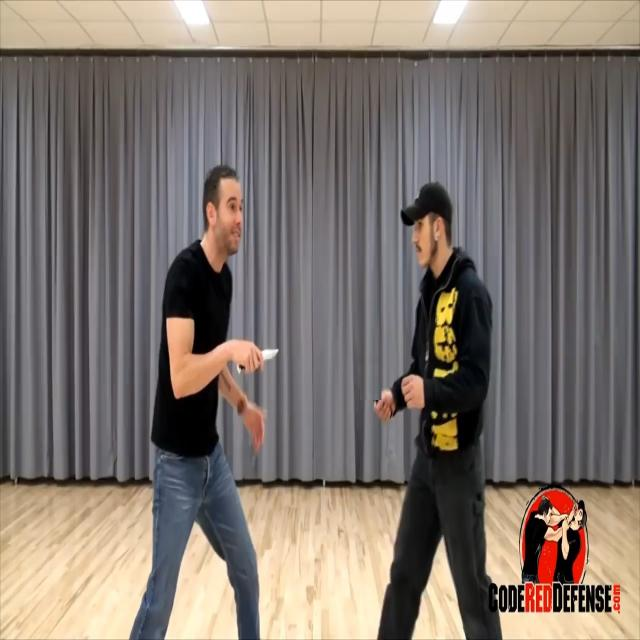knife: (259, 339, 283, 369)
